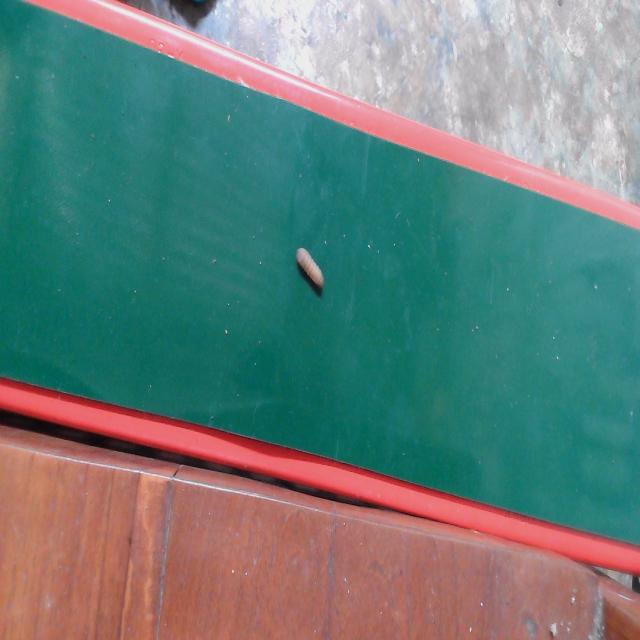Maggot: (295, 247, 327, 297)
